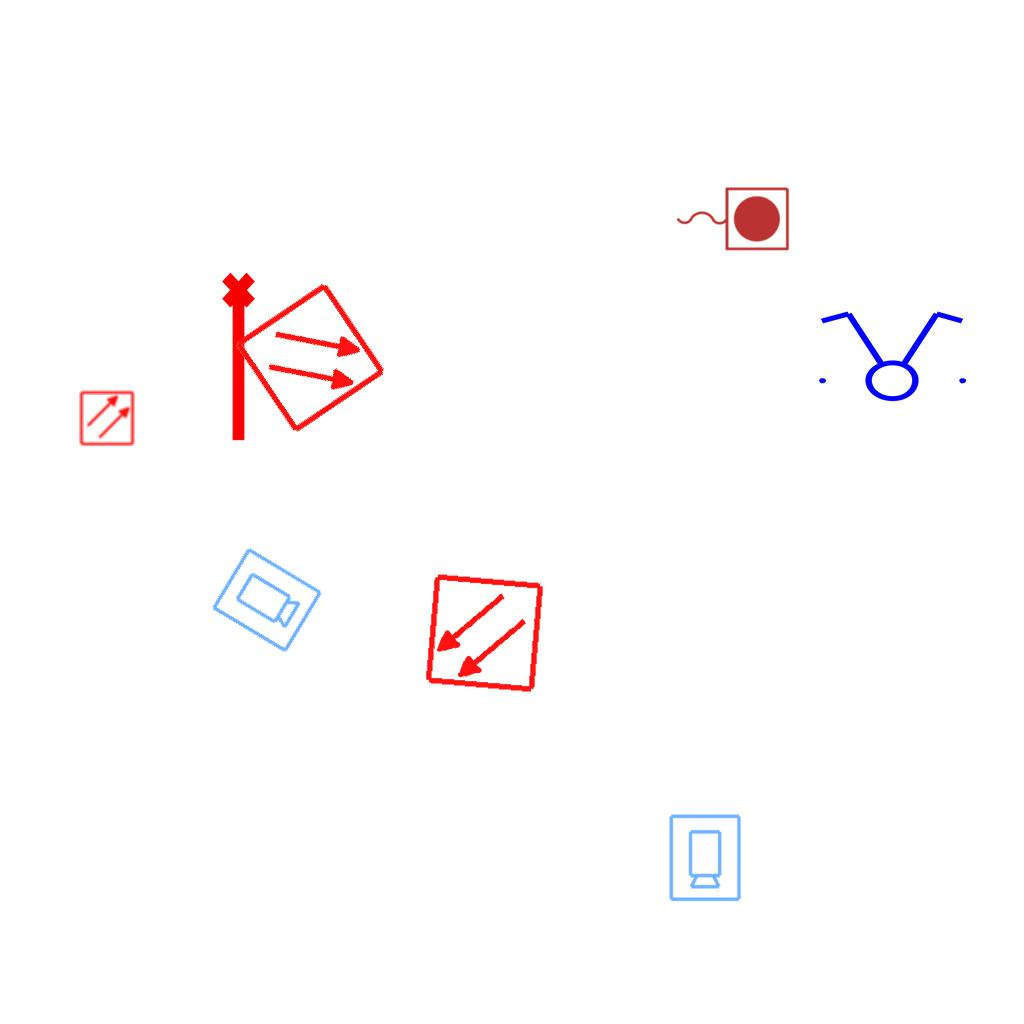ASR_Ansaugoeffnung: (218, 270, 264, 446)
KFO_Kamera_mit_Festobjektiv: (207, 544, 326, 657), (666, 812, 743, 903)
RMO_Rauchmelder_optischer: (232, 279, 389, 436), (423, 572, 546, 695), (79, 390, 135, 446)
Serienschalter: (807, 307, 975, 403)
Zugtaster: (671, 182, 793, 254)
